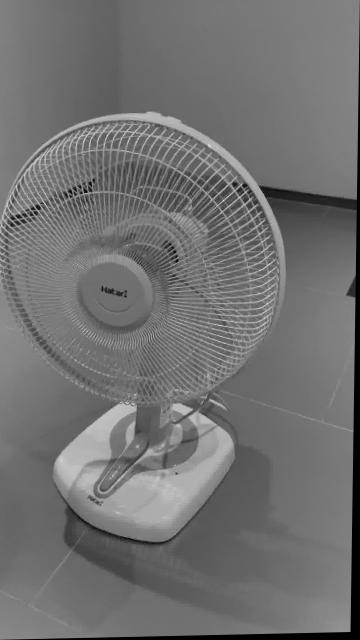Fan: (0, 113, 282, 547)
